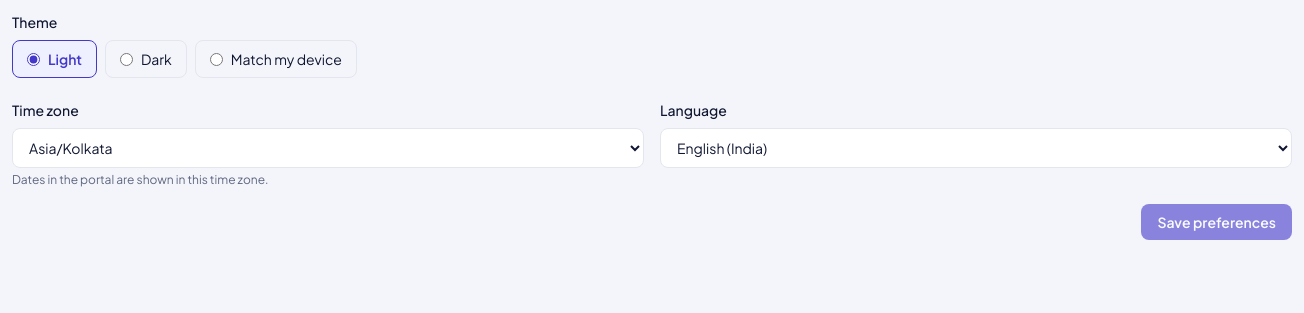
PreferencesForm › puts the theme back if saving it fails
The image size is (1304, 313).
Click the radio button labelled "Dark" at coordinates (126, 59), box [120, 52, 133, 66]
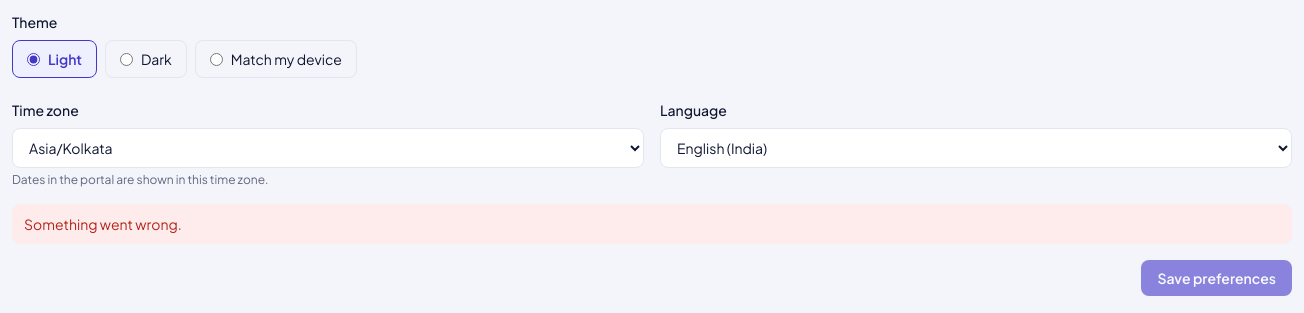
Expected: the message reads "Something went wrong.", [24, 215, 182, 233]
